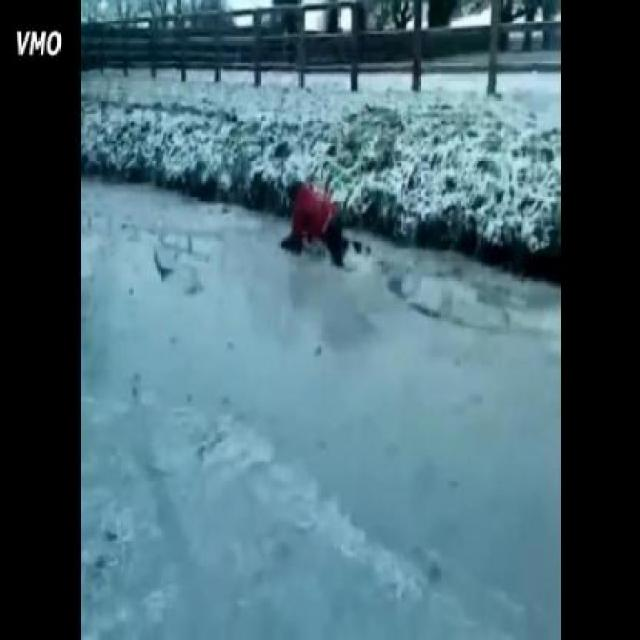fall: (278, 172, 374, 268)
